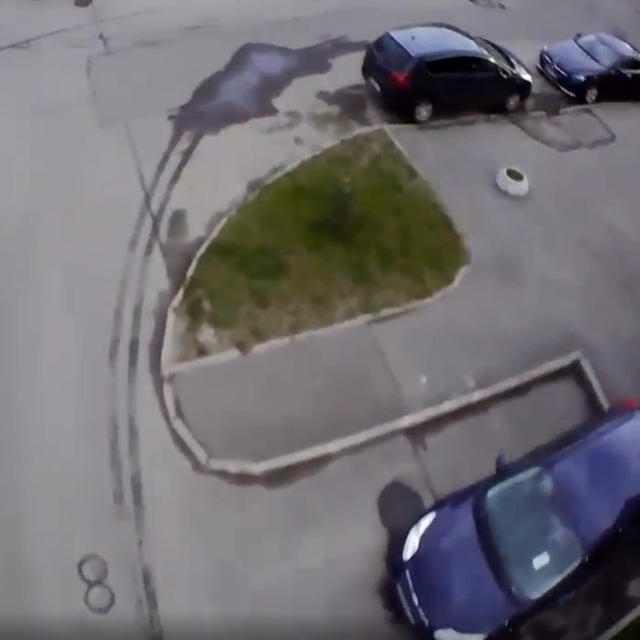car: (394, 401, 640, 640), (361, 21, 534, 121), (536, 31, 640, 103)
